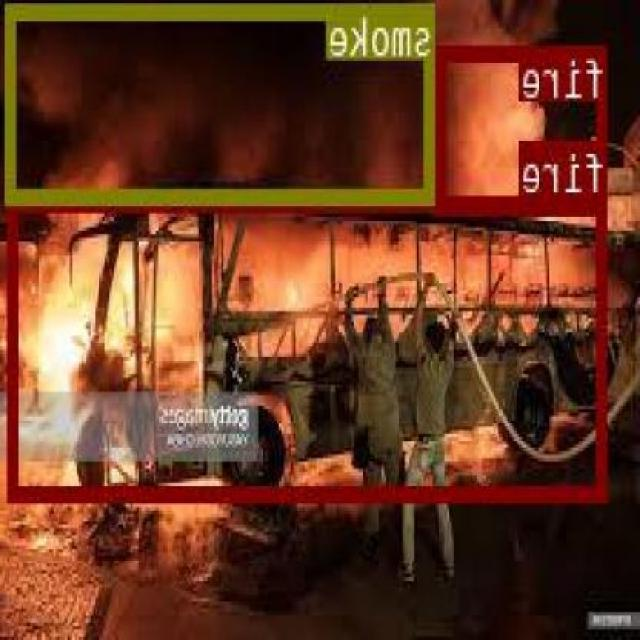fire: (11, 193, 610, 498), (438, 43, 608, 211)
smoke: (7, 0, 436, 200)
